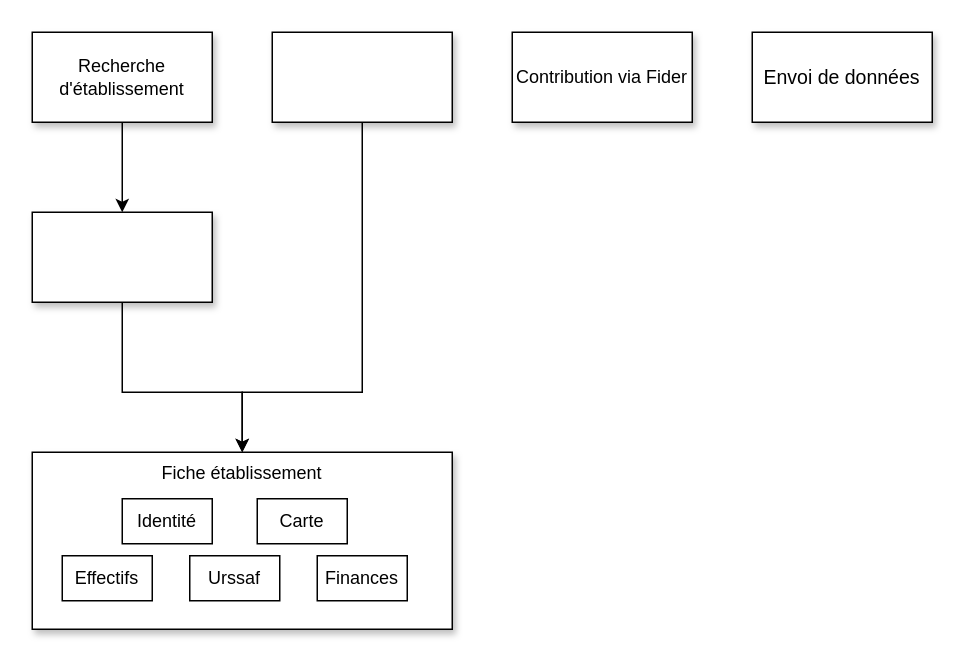
Image size: 968x666. Some labels were removed from this diagram. The shapes that lost their labels are listed below. From the top down, each one's centre as x and y in pixels, then its label:
At point 363,79: "Détection des établissements".
At point 123,259: "Résultats de la recherche".
